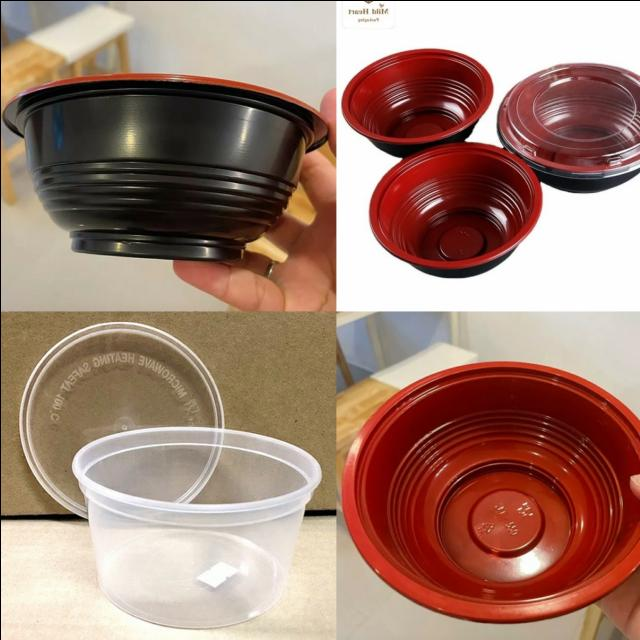plastik: (342, 361, 640, 622), (4, 73, 326, 258), (71, 426, 319, 628), (18, 321, 223, 515), (369, 142, 541, 276), (496, 62, 640, 191), (341, 49, 492, 157)
